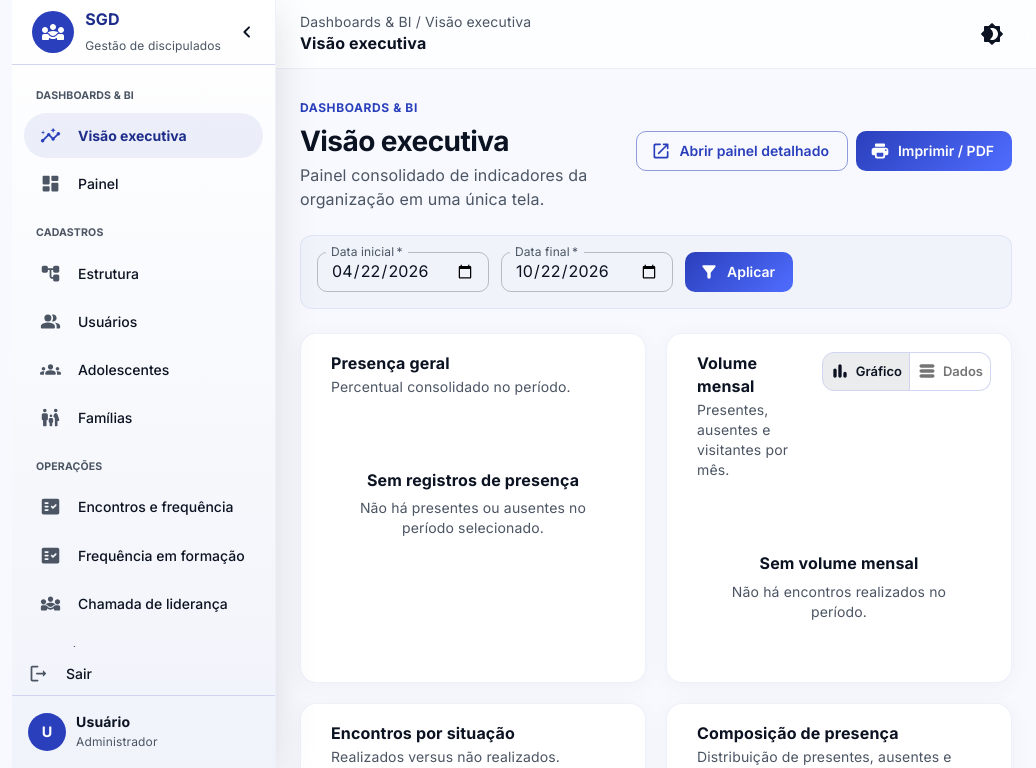
Test: navegação autenticada › permite buscar discipulado por parte do nome do discipulador no registro de frequência
Click the tab "Encontros e frequência" at (144, 507), box [24,484,263,530]
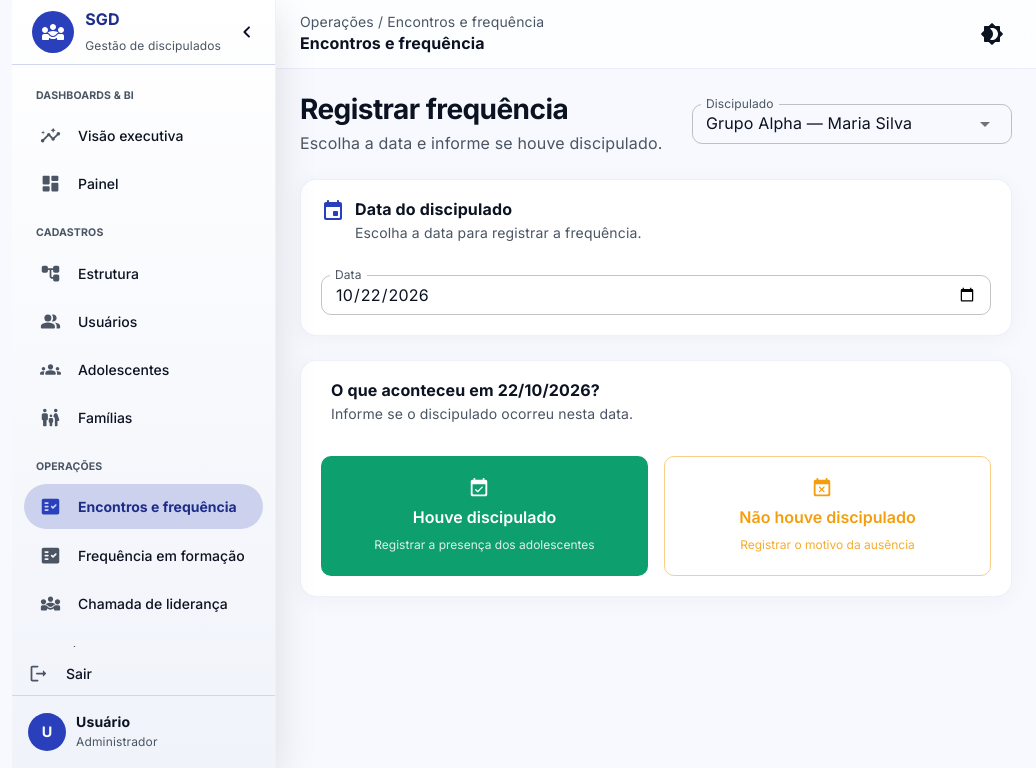
Clear the dropdown with placeholder "Pesquisar discipulado ou discipulador" at (822, 124), box [698,110,947,138]
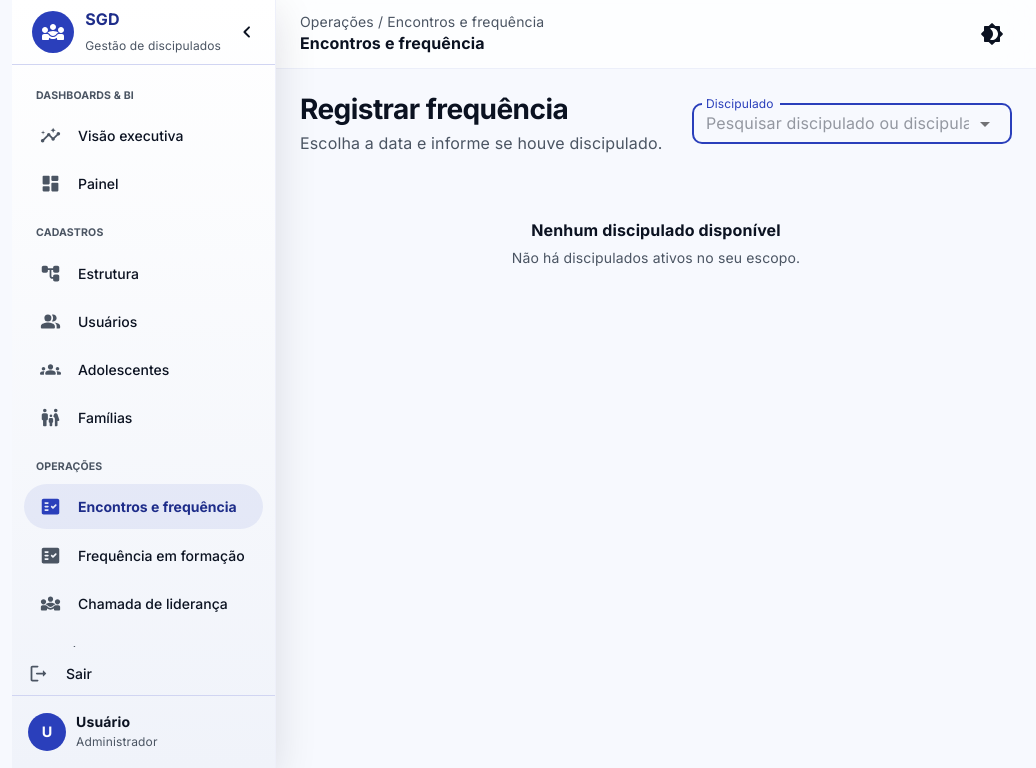
Type "João" into the dropdown with placeholder "Pesquisar discipulado ou discipulador" at (836, 124), box [698,110,973,138]
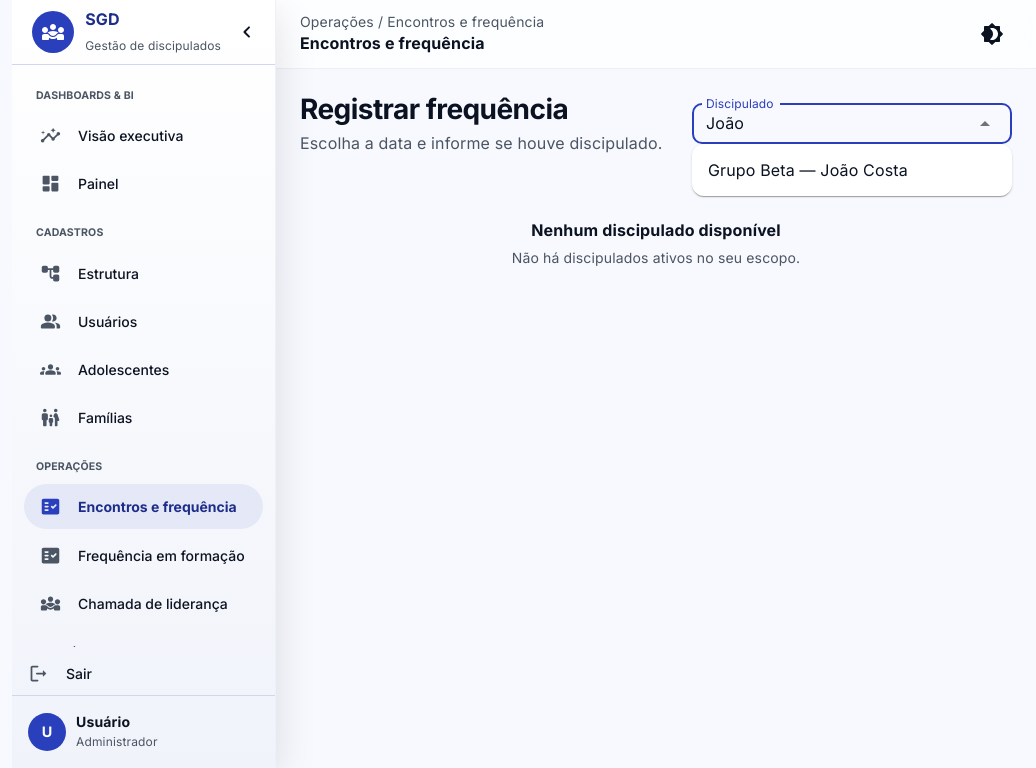
Click the option "Grupo Beta — João Costa" at (808, 170), box [708,160,908,180]
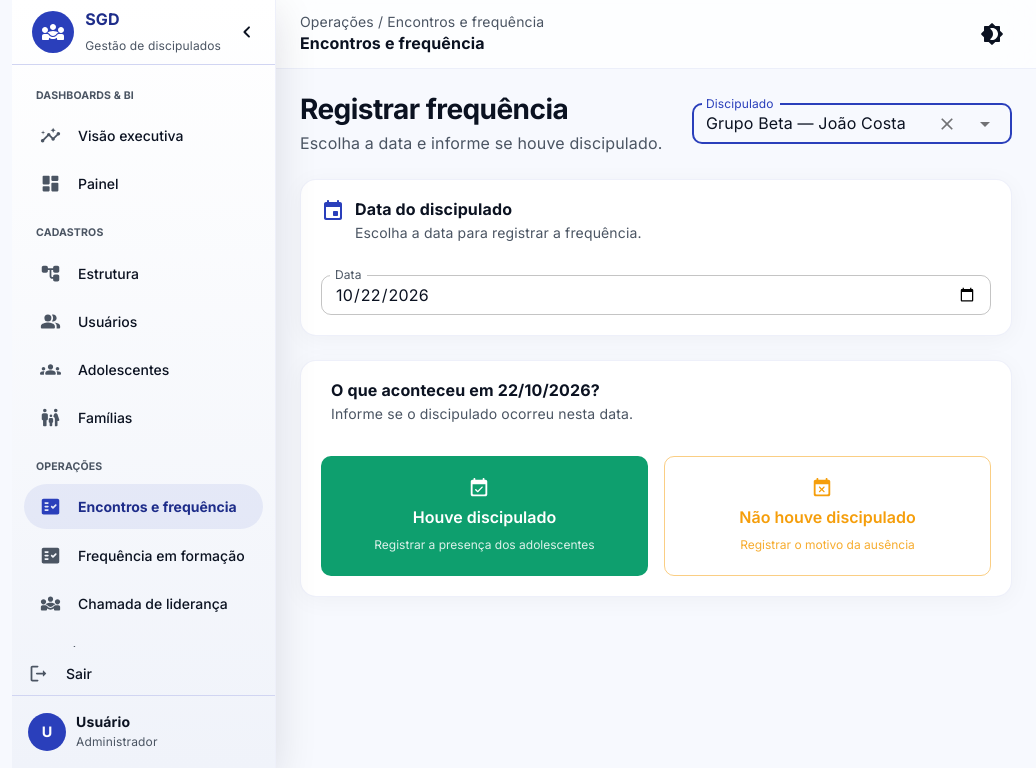
expect the button "Houve discipulado Registrar a presença dos adolescentes" is shown: met, box [321,456,648,576]
